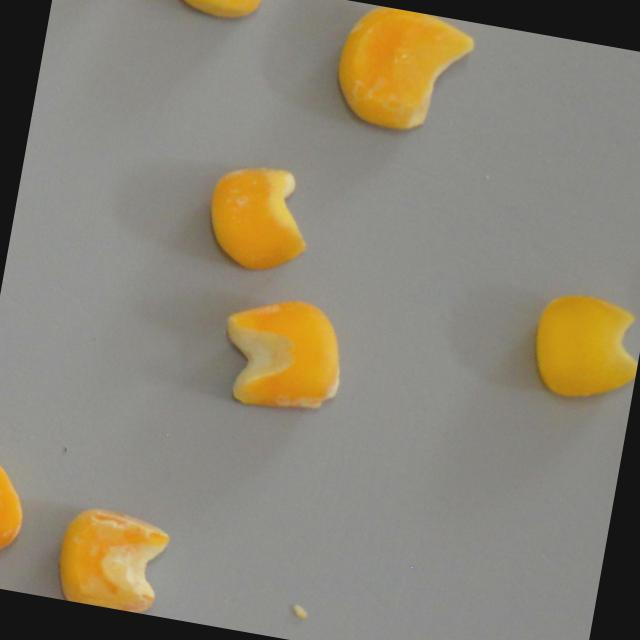no_canjicado: (328, 0, 477, 140), (524, 287, 640, 409)
pelicula: (213, 288, 351, 420), (199, 157, 317, 278), (51, 500, 171, 616), (0, 450, 32, 573), (168, 0, 262, 24)
